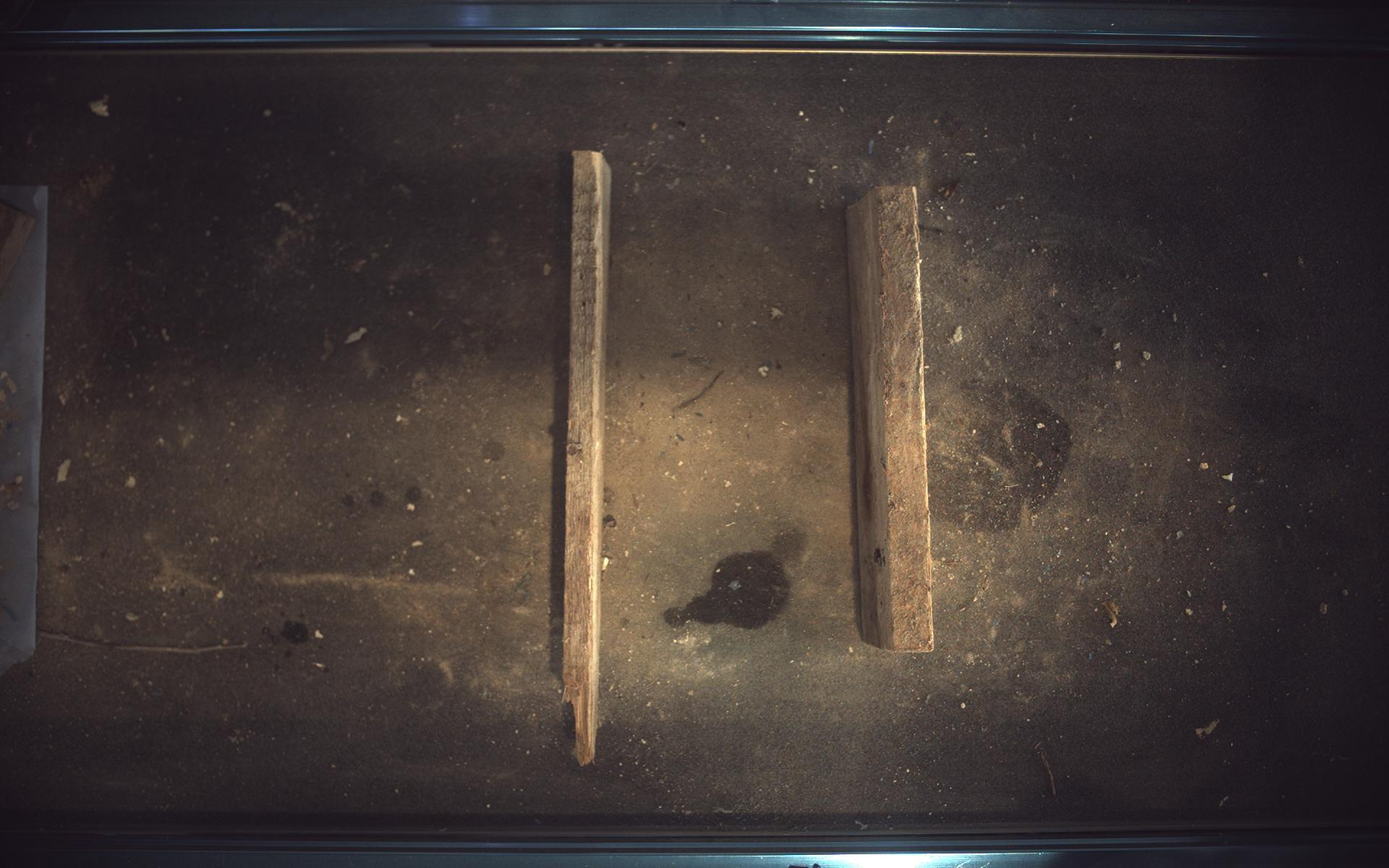wood: (849, 185, 935, 653), (564, 150, 611, 767)
